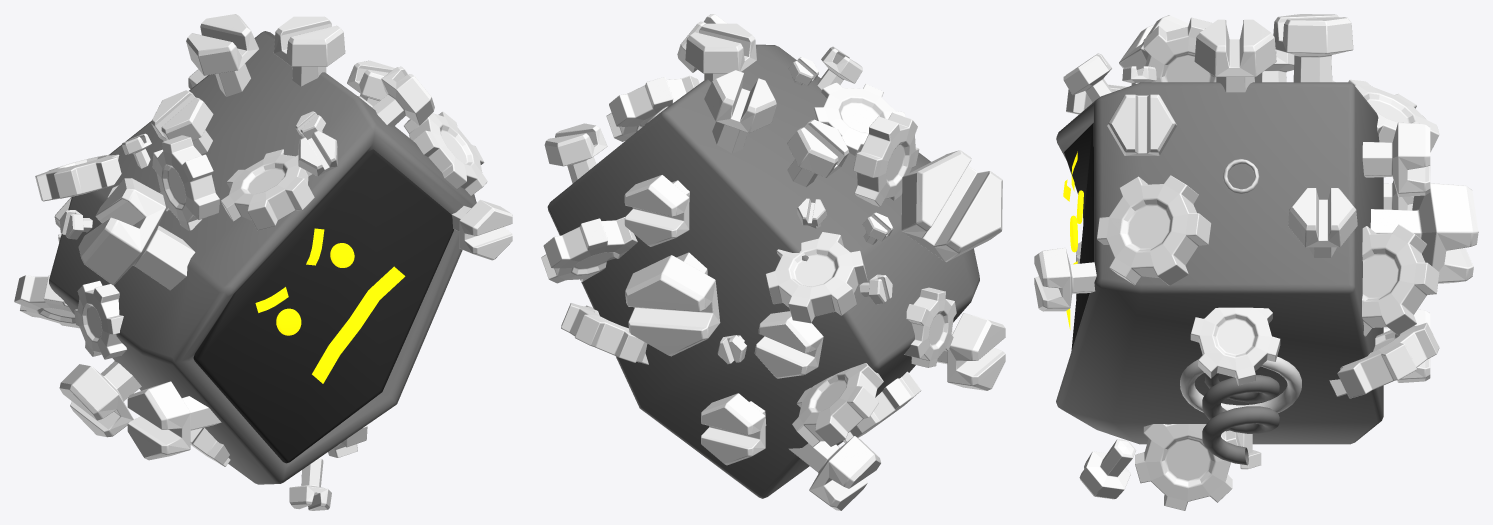
The model's file is handhead stage 4.fbx.
3 renders of one model, left to right at view 1: azimuth 30°, elevation 25°; view 2: azimuth 150°, elevation 25°; view 3: azimuth 270°, elevation 25°, orthographic. The views are drawn at different scales.
Parts seen in each view (by area): view 1: Cube.005, Cube.006, Plane.010, Circle.009; view 2: Cube.005; view 3: Cube.005, Circle.007, Cube.006, Torus.006, Torus.005.
Boxes of the visible parts, x1=… form: Cube.005: x1=14, y1=14, x2=512, y2=510; Cube.006: x1=193, y1=149, x2=454, y2=463; Plane.010: x1=312, y1=266, x2=405, y2=383; Circle.009: x1=276, y1=308, x2=301, y2=335; Cube.005: x1=541, y1=14, x2=1005, y2=510; Cube.005: x1=1034, y1=14, x2=1478, y2=510; Circle.007: x1=1202, y1=373, x2=1279, y2=465; Cube.006: x1=1064, y1=123, x2=1093, y2=351; Torus.006: x1=1180, y1=356, x2=1301, y2=412; Torus.005: x1=1223, y1=159, x2=1259, y2=193.
Bounding box in the file's own units: 457 × 470 × 383.
